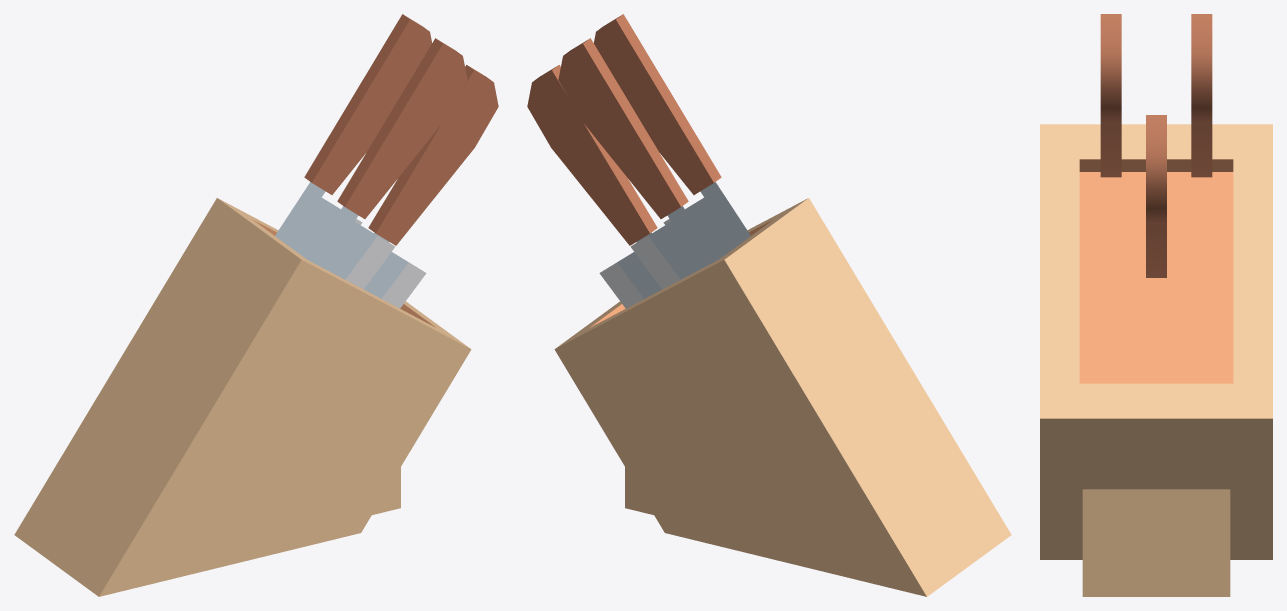
The model's file is knifeBlock.obj.
3 views of the same model, side by side, from view 1: azimuth 30°, elevation 25°; view 2: azimuth 150°, elevation 25°; view 3: azimuth 270°, elevation 25° (orthographic). The views are drawn at different scales.
Visible parts, largest first — view 1: knifeBlock, cookingKnife; view 2: knifeBlock, cookingKnife; view 3: knifeBlock, cookingKnife.
Part boxes in pixels (left/top/right/bottom): knifeBlock: left=14, top=198, right=471, bottom=596; cookingKnife: left=275, top=14, right=498, bottom=308; knifeBlock: left=554, top=198, right=1011, bottom=596; cookingKnife: left=527, top=14, right=750, bottom=308; knifeBlock: left=1040, top=124, right=1272, bottom=596; cookingKnife: left=1100, top=14, right=1212, bottom=277.
Bounding box in the file's own units: 0.6628 × 0.6472 × 0.2218.
